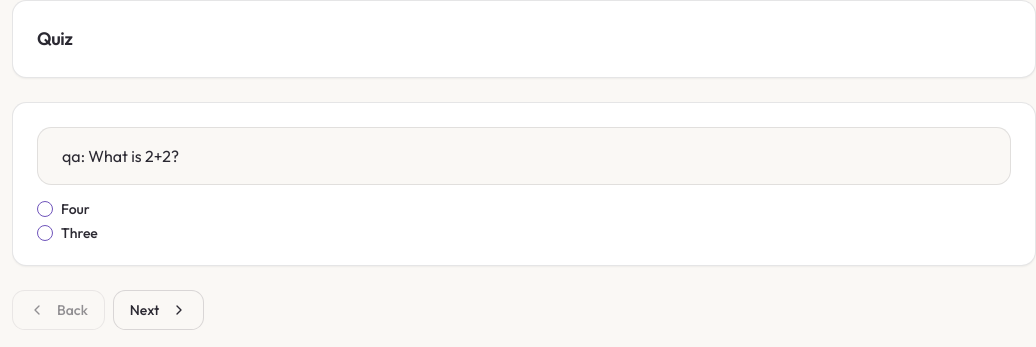
Test: InlineQuizPlayer definite start refusal › Retry that succeeds adopts exactly one attempt, keeps the unsaved answer and then saves it
Step 1. Click the radio button named "Four" next to "Four" → (45, 209), box [37, 201, 53, 217]
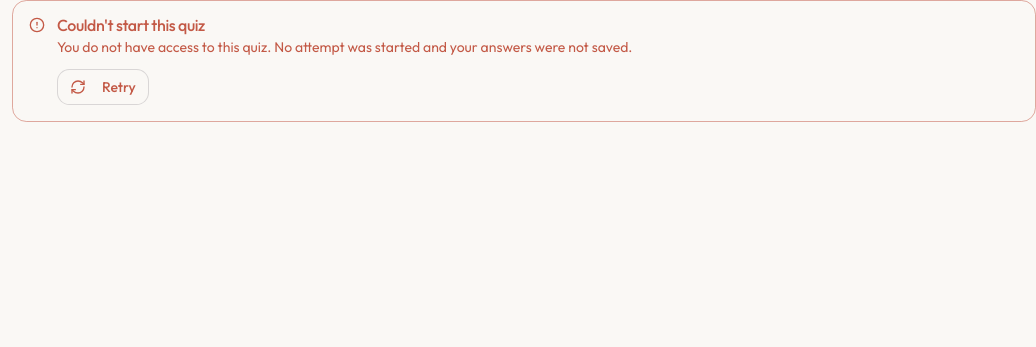
Now the heading "Couldn't start this quiz" is shown, box [57, 15, 205, 35]
Step 2. Click the button "Retry" → (103, 87), box [57, 69, 149, 105]
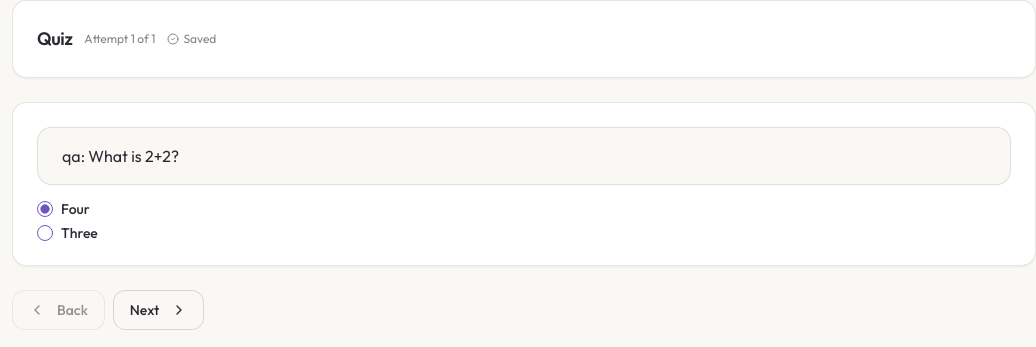
Now the text "Attempt 1 of 1" is shown, box [84, 31, 155, 47]
Now the radio button named "Four" next to "Four" is checked, box [37, 201, 53, 217]
